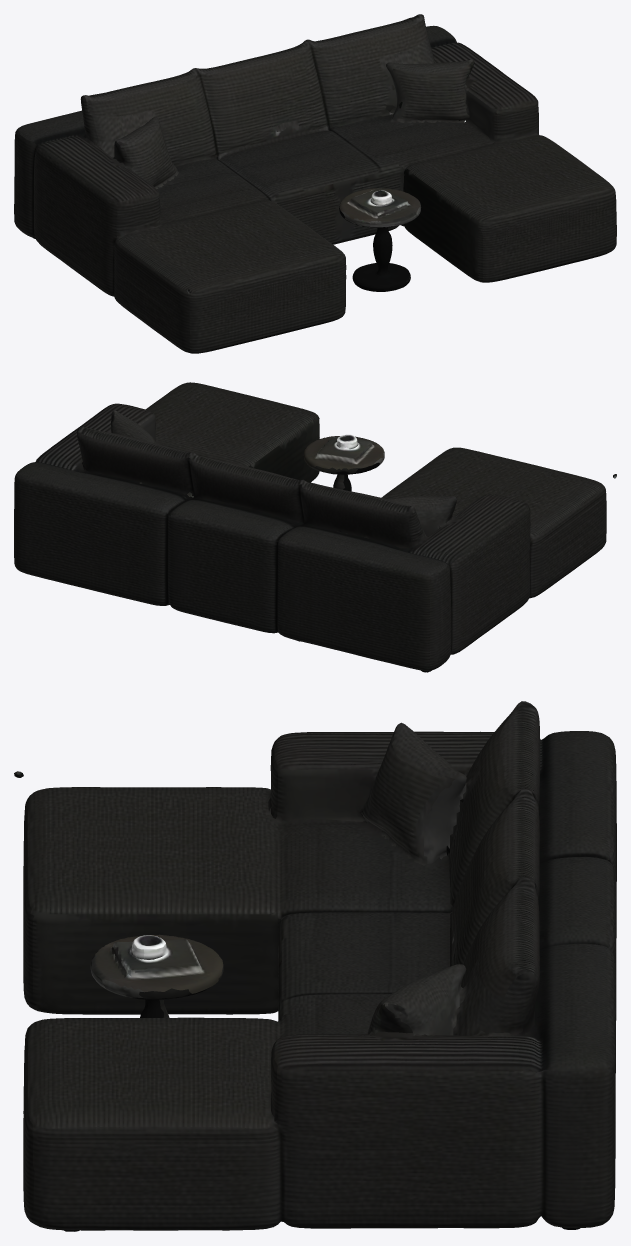
3 views of the same model, one above another, from view 1: azimuth 30°, elevation 25°; view 2: azimuth 150°, elevation 25°; view 3: azimuth 270°, elevation 25° (orthographic). The views are drawn at different scales.
Visible parts, largest first — view 1: tmpty2ranlk.ply; view 2: tmpty2ranlk.ply; view 3: tmpty2ranlk.ply.
Part boxes in pixels (<box>): tmpty2ranlk.ply: <box>14,14,616,353</box>; tmpty2ranlk.ply: <box>14,382,616,672</box>; tmpty2ranlk.ply: <box>14,701,616,1231</box>.
Size of the model in its own units: 1.99 by 0.6492 by 1.46.
1 material, 1 textured.
